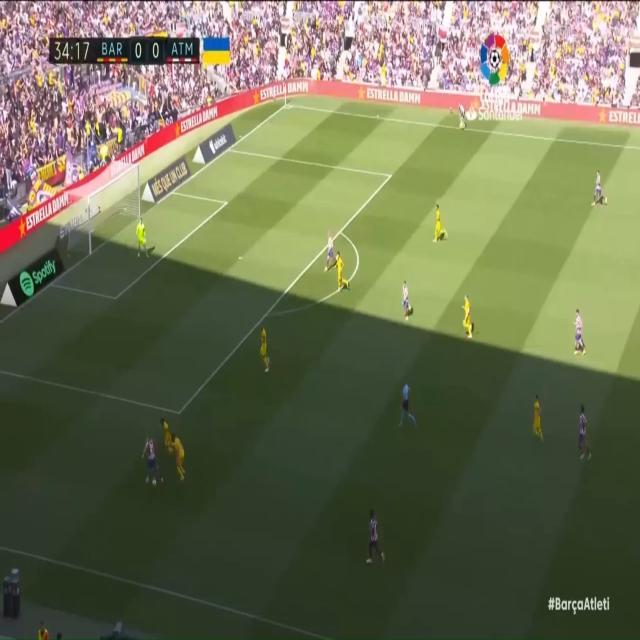ball: (152, 478, 158, 491)
goalkeeper: (134, 204, 156, 277)
player: (357, 501, 389, 583), (572, 396, 595, 472), (140, 430, 165, 495), (455, 283, 479, 347), (527, 390, 552, 449), (569, 303, 589, 369), (330, 250, 353, 304), (432, 196, 452, 257), (255, 315, 273, 381), (171, 429, 190, 487), (591, 165, 609, 221), (397, 275, 414, 334), (320, 224, 338, 277), (159, 416, 172, 463)
referee: (395, 374, 421, 443), (456, 97, 466, 136)
